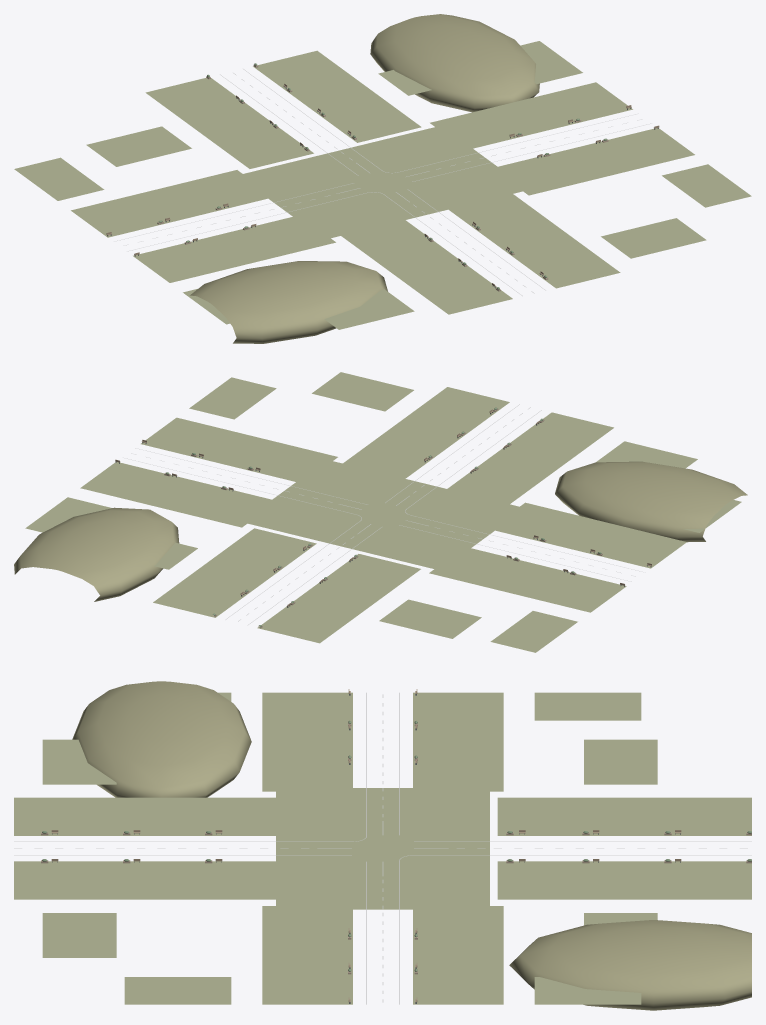
The picture shows the model from 3 angles, top to bottom: view 1: azimuth 30°, elevation 25°; view 2: azimuth 150°, elevation 25°; view 3: azimuth 270°, elevation 25°; orthographic projection. The views are drawn at different scales.
Parts seen in each view (by area): view 1: static; view 2: static; view 3: static.
Part boxes in pixels (x1,y1,x2,y2): static: [14, 14, 751, 343]; static: [14, 372, 747, 652]; static: [14, 681, 751, 1010].
Size of what is drawn, in the model's own units: 180 by 14.08 by 180.
